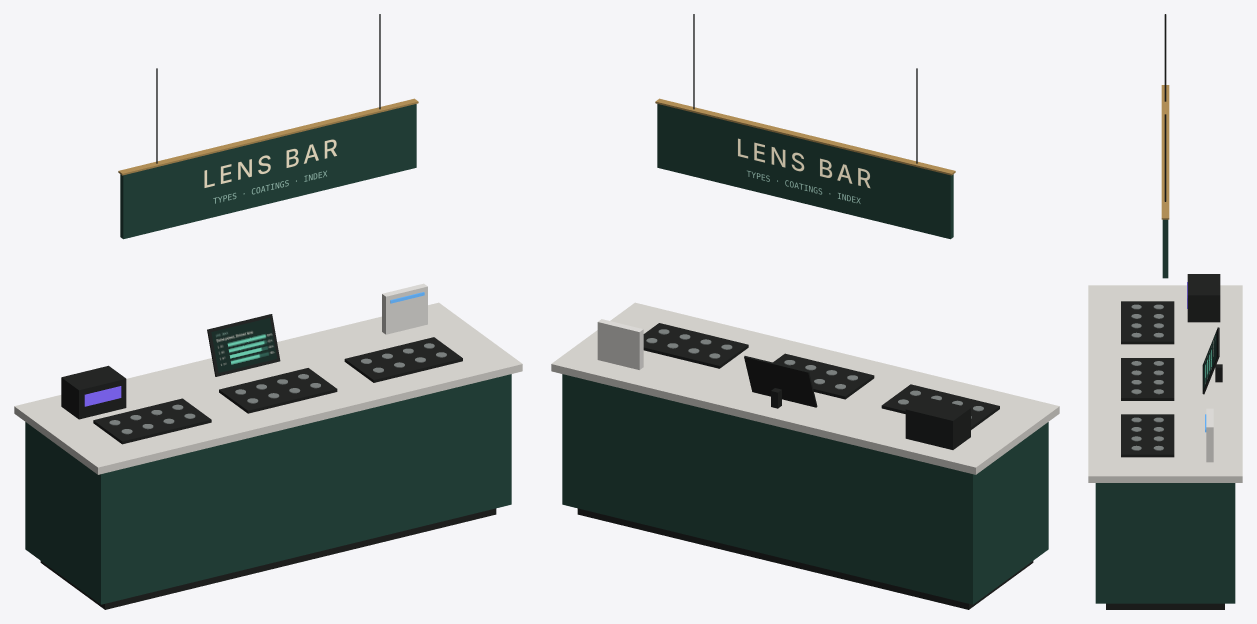
Rendered from Lens_Bar.glb.
The picture shows the model from 3 angles, left to right: view 1: azimuth 30°, elevation 25°; view 2: azimuth 150°, elevation 25°; view 3: azimuth 270°, elevation 25°; orthographic projection. The views are drawn at different scales.
Visible parts, largest first — view 1: Lens_Bar_Green_Fluted, Lens_Bar_Stone, Lens_Bar_Green_Panels, Lens_Bar_Black_Metal, Lens_Bar_Tablet_Screen, Lens_Bar_Brass, Lens_Bar_White, Sign_LENS_BAR, Lens_Bar_Lens_Samples; view 2: Lens_Bar_Green_Fluted, Lens_Bar_Stone, Lens_Bar_Green_Panels, Lens_Bar_Black_Metal, Lens_Bar_White, Lens_Bar_Brass, Sign_LENS_BAR_2, Lens_Bar_Lens_Samples; view 3: Lens_Bar_Stone, Lens_Bar_Green_Fluted, Lens_Bar_Black_Metal, Lens_Bar_Lens_Samples, Lens_Bar_Brass, Lens_Bar_White, Lens_Bar_Green_Panels, Lens_Bar_Tablet_Screen.
Part boxes in pixels (x1,y1,x2,y2): Lens_Bar_Green_Fluted: (25,374,511,604); Lens_Bar_Stone: (14,302,522,474); Lens_Bar_Green_Panels: (120,104,416,239); Lens_Bar_Black_Metal: (40,14,496,609); Lens_Bar_Tablet_Screen: (211,318,276,372); Lens_Bar_Brass: (118,98,418,175); Lens_Bar_White: (382,283,427,334); Sign_LENS_BAR: (204,139,336,203); Lens_Bar_Lens_Samples: (109,343,446,434); Lens_Bar_Green_Fluted: (562,374,1048,604); Lens_Bar_Stone: (551,302,1059,474); Lens_Bar_Green_Panels: (657,104,953,239); Lens_Bar_Black_Metal: (577,14,1033,609); Lens_Bar_White: (597,319,643,369); Lens_Bar_Brass: (655,98,955,175); Sign_LENS_BAR_2: (738,138,870,203); Lens_Bar_Lens_Samples: (646,329,983,418); Lens_Bar_Stone: (1088,285,1242,482); Lens_Bar_Green_Fluted: (1095,483,1235,603); Lens_Bar_Black_Metal: (1106,14,1224,609); Lens_Bar_Lens_Samples: (1131,304,1163,450); Lens_Bar_Brass: (1161,85,1169,219); Lens_Bar_White: (1206,408,1213,462); Lens_Bar_Green_Panels: (1162,219,1168,278); Lens_Bar_Tablet_Screen: (1203,331,1216,389).
Bounding box in the file's own units: 3.04 × 3.4 × 1.04.
12 materials, 3 textured.
